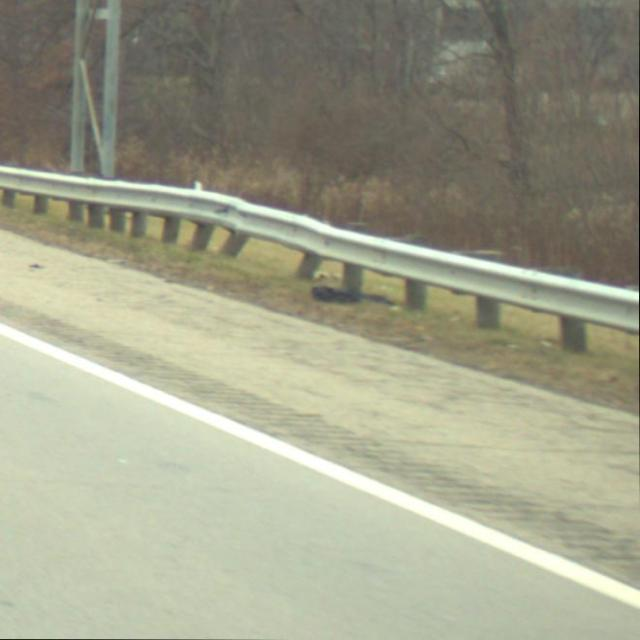Guard rail: (0, 160, 640, 375)
